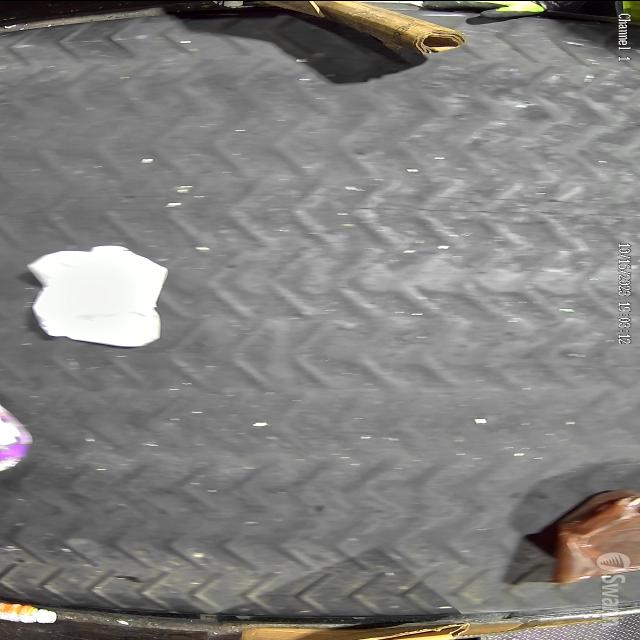milk_jug: (27, 244, 170, 348)
non_white_jug: (546, 487, 640, 583)
